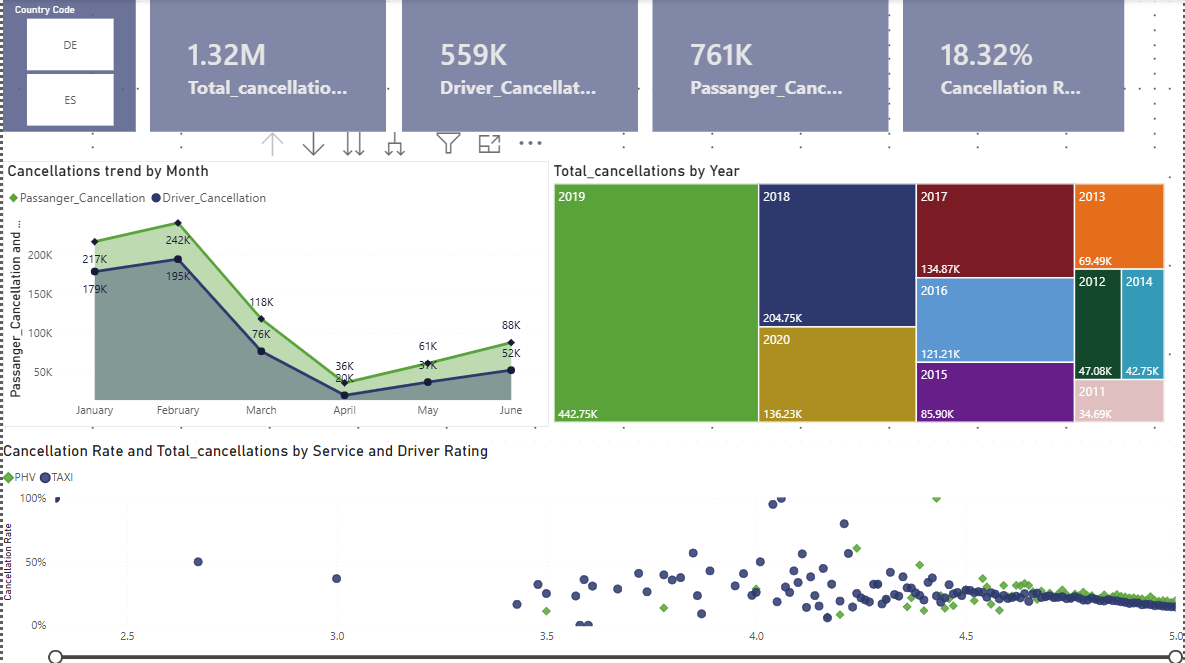

The page's visual inventory and layout, read from the dashboard file:
{"tool":"powerbi","page":{"name":"Cancellation Stats","canvas":[1280,720],"ordinal":2},"visuals":[{"type":"scatterChart","title":"Cancellation Rate and Total_cancellations by Service and Driver Rating","fields":{"Y":["rideit_drivers.Cancellation Rate"],"Series":["rideit_drivers.service_type"],"X":["rideit_drivers.driver_rating"]},"box":[0,480,1280,240],"z":0},{"type":"treemap","fields":{"Values":["rideit_drivers_activity.Total_cancellations"],"Group":["rideit_drivers.date_registration.Variation.Date Hierarchy.Year","rideit_drivers.date_registration.Variation.Date Hierarchy.Month","rideit_drivers.date_registration.Variation.Date Hierarchy.Day"]},"box":[592,176,672,288],"z":1000},{"type":"areaChart","title":"Cancellations trend by Month","fields":{"Y":["rideit_drivers_activity.Passanger_Cancellation","rideit_drivers_activity.Driver_Cancellation"],"Category":["rideit_drivers_activity.active_date.Variation.Date Hierarchy.Month","rideit_drivers_activity.active_date.Variation.Date Hierarchy.Day"]},"box":[0,176,592,288],"z":2000},{"type":"cardVisual","fields":{"Data":["rideit_drivers_activity.Total_cancellations"]},"box":[160,0,256,144],"z":3000},{"type":"cardVisual","fields":{"Data":["rideit_drivers_activity.Driver_Cancellation"]},"box":[432,0,256,144],"z":4000},{"type":"cardVisual","fields":{"Data":["rideit_drivers.Cancellation Rate"]},"box":[976,0,240,144],"z":5000},{"type":"cardVisual","fields":{"Data":["rideit_drivers_activity.Passanger_Cancellation"]},"box":[704,0,256,144],"z":6000},{"type":"slicer","fields":{"Values":["rideit_drivers.country_code"]},"box":[0,0,144,144],"z":7000}]}

Visuals, with their boxes on the page's 1280x720 design canvas (x1, y1, x2, y2). These are canvas units, not pixel positions in the 1185x663 screenshot, which may show the page scaled, cropped or inside an application window:
"Cancellation Rate and Total_cancellations by Service and Driver Rating" scatterChart: <region>0, 480, 1280, 720</region>
treemap - rideit_drivers_activity.Total_cancellations x rideit_drivers.date_registration.Variation.Date Hierarchy.Year: <region>592, 176, 1264, 464</region>
"Cancellations trend by Month" areaChart: <region>0, 176, 592, 464</region>
cardVisual - rideit_drivers_activity.Total_cancellations: <region>160, 0, 416, 144</region>
cardVisual - rideit_drivers_activity.Driver_Cancellation: <region>432, 0, 688, 144</region>
cardVisual - rideit_drivers.Cancellation Rate: <region>976, 0, 1216, 144</region>
cardVisual - rideit_drivers_activity.Passanger_Cancellation: <region>704, 0, 960, 144</region>
slicer - rideit_drivers.country_code: <region>0, 0, 144, 144</region>
